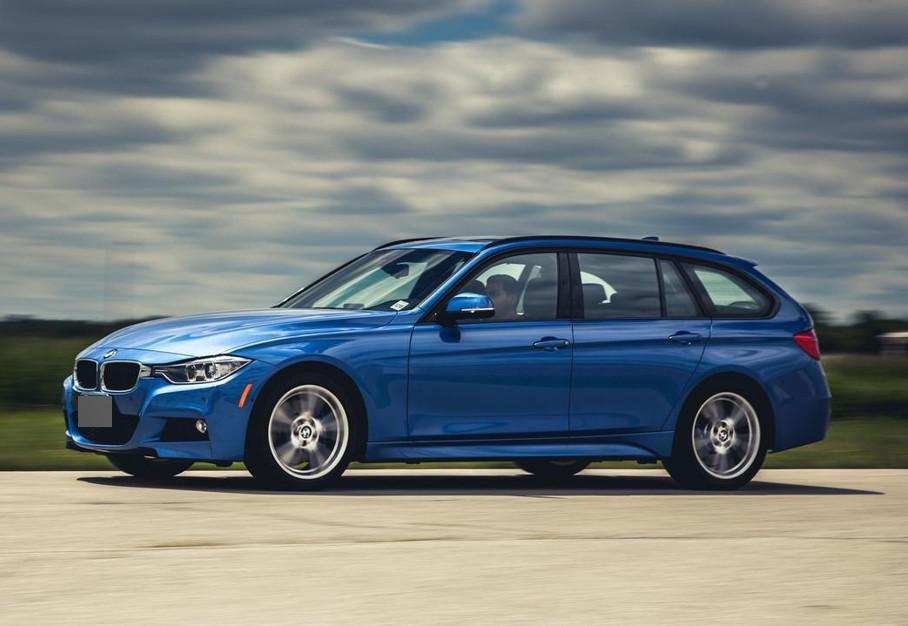Wagon: (64, 235, 830, 492)
